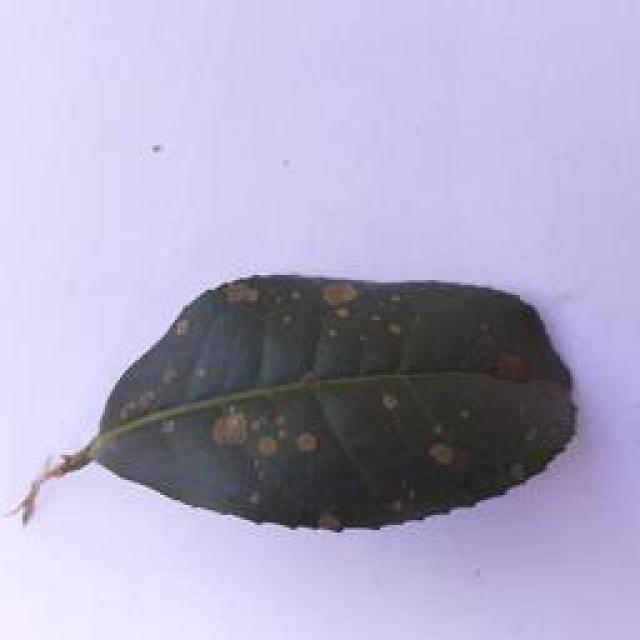Algal Leaf Spot: (80, 270, 588, 536)
